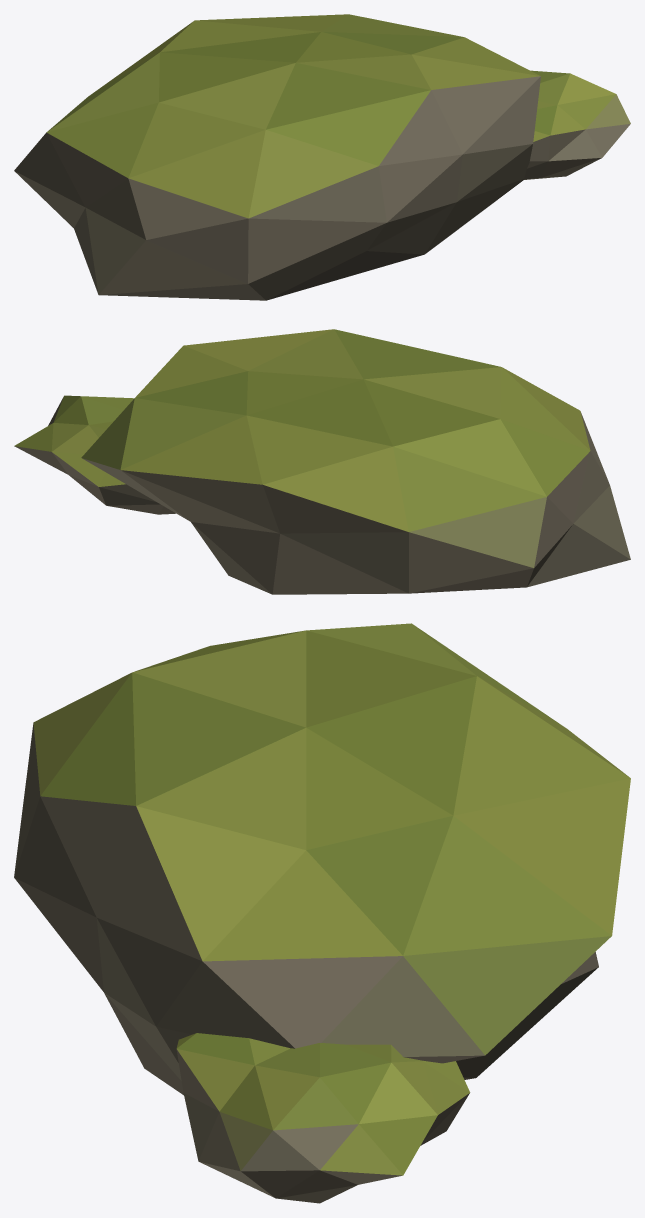
The picture shows the model from 3 angles, top to bottom: view 1: azimuth 30°, elevation 25°; view 2: azimuth 150°, elevation 25°; view 3: azimuth 270°, elevation 25°; orthographic projection. The views are drawn at different scales.
Parts seen in each view (by area): view 1: rock_b_solid; view 2: rock_b_solid; view 3: rock_b_solid.
Boxes of the visible parts, bbox=[...] form: rock_b_solid: bbox=[14, 14, 630, 300]; rock_b_solid: bbox=[14, 329, 630, 594]; rock_b_solid: bbox=[14, 623, 630, 1203].
Size of the model in its own units: 3.6 by 1.15 by 2.17.
